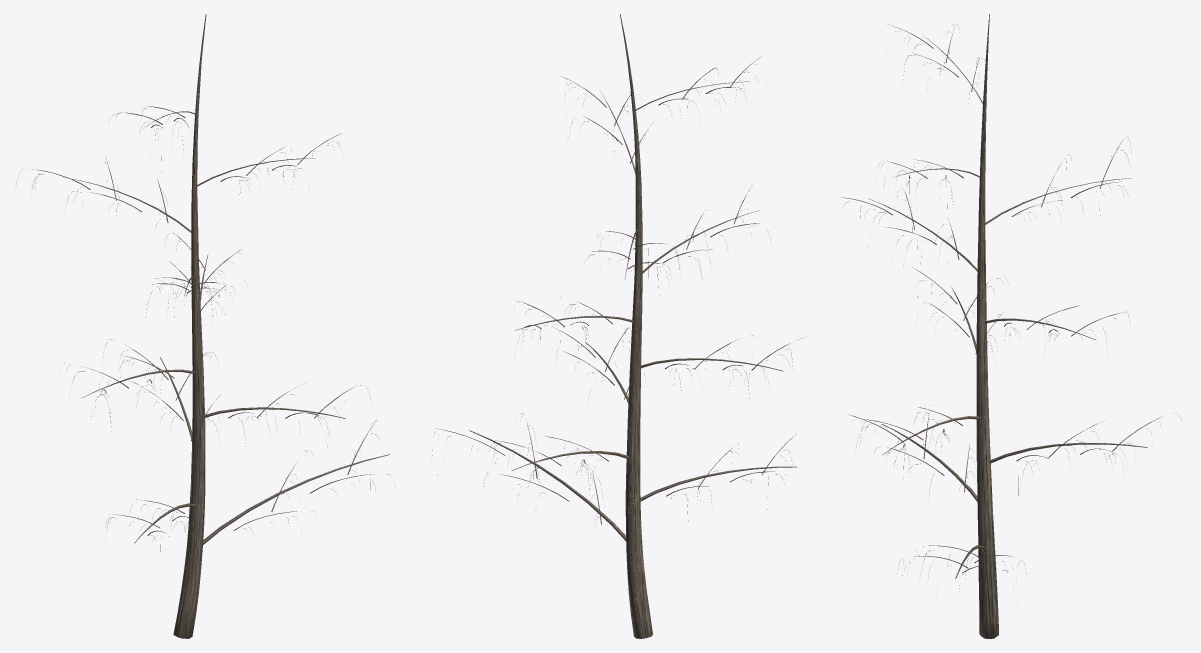
File: casuarina-1-lite.glb
The picture shows the model from 3 angles, left to right: view 1: azimuth 30°, elevation 25°; view 2: azimuth 150°, elevation 25°; view 3: azimuth 270°, elevation 25°; orthographic projection. The views are drawn at different scales.
Visible parts, largest first — view 1: bark, branchlets; view 2: bark, branchlets; view 3: bark, branchlets.
Part boxes in pixels (x1,y1,x2,y2): bark: (32,14,389,638); branchlets: (16,107,390,551); bark: (435,14,804,638); branchlets: (431,64,793,526); bark: (839,14,1162,638); branchlets: (842,24,1181,588).
Bounding box in the file's own units: 0.2119 × 0.381 × 0.1909.
2 materials, 2 textured.
